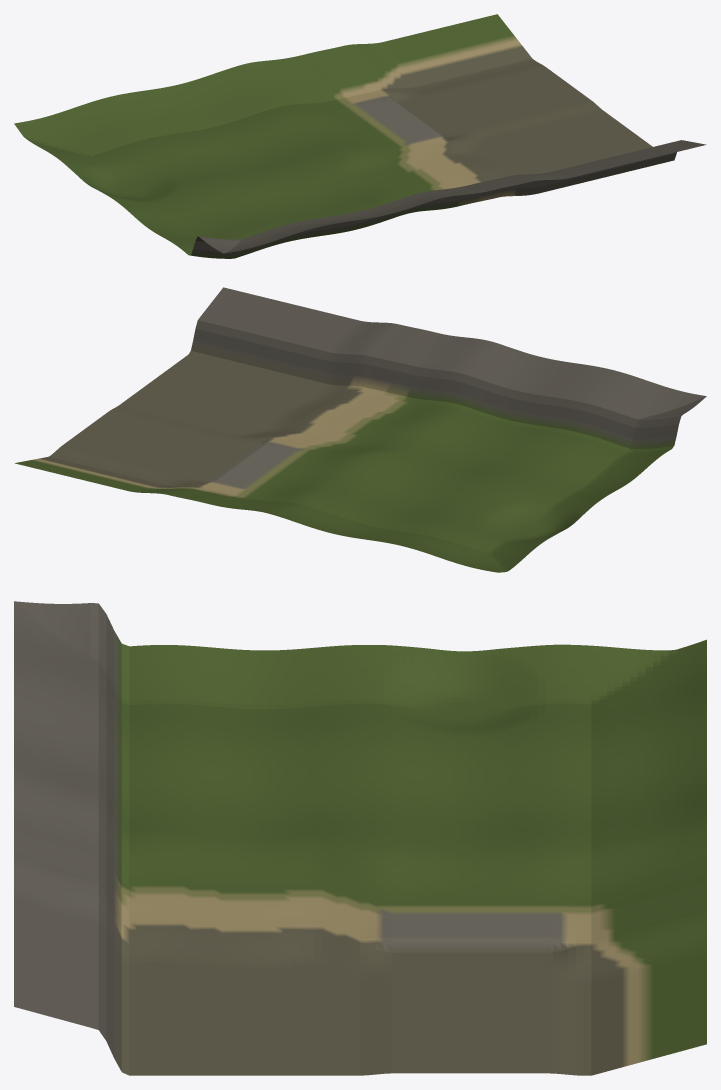
The model's file is campo-puerto.glb.
3 views of the same model, one above another, from view 1: azimuth 30°, elevation 25°; view 2: azimuth 150°, elevation 25°; view 3: azimuth 270°, elevation 25° (orthographic). The views are drawn at different scales.
Visible parts, largest first — view 1: campo-puerto-0; view 2: campo-puerto-0; view 3: campo-puerto-0.
Boxes of the visible parts, box(x1,y1,x2,y2) form: campo-puerto-0: box(14, 14, 706, 258); campo-puerto-0: box(15, 287, 706, 572); campo-puerto-0: box(14, 601, 706, 1075).
Size of the model in its own units: 360 by 38.41 by 270.
